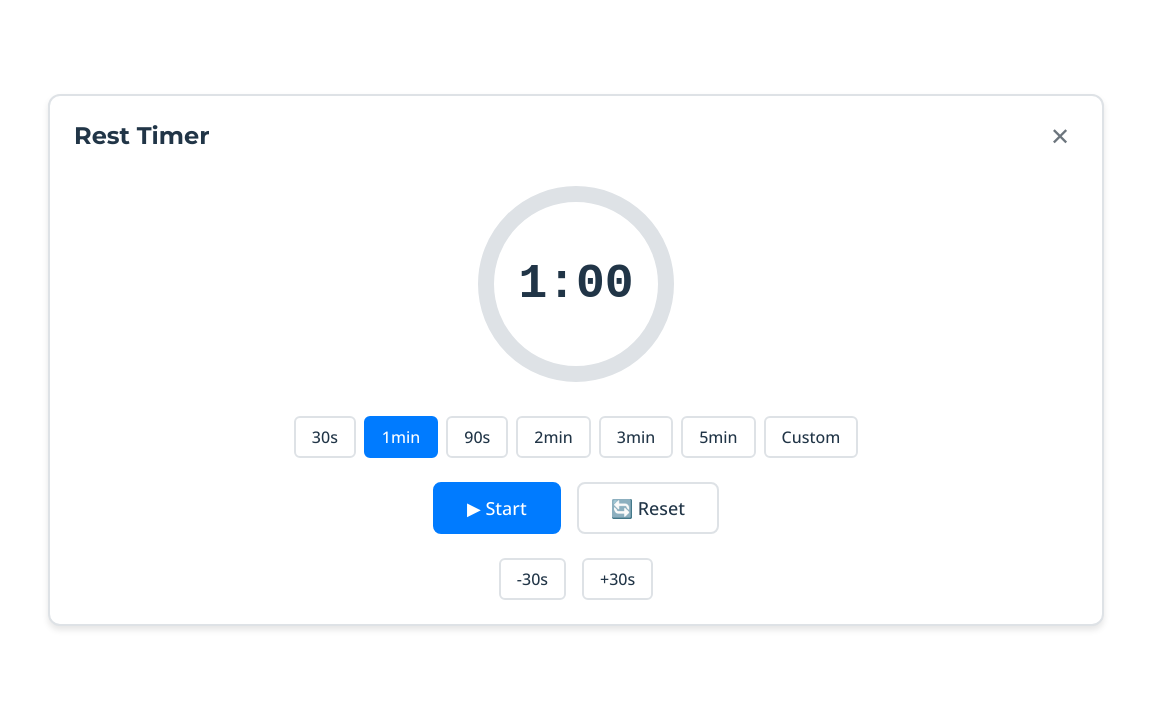
RestTimer › extends time by 30 seconds
Expected: the text "1:00" is shown, [518, 246, 634, 322]
Click the button named "Increase time by 30 seconds".
click(618, 579)  # box [582, 558, 653, 600]
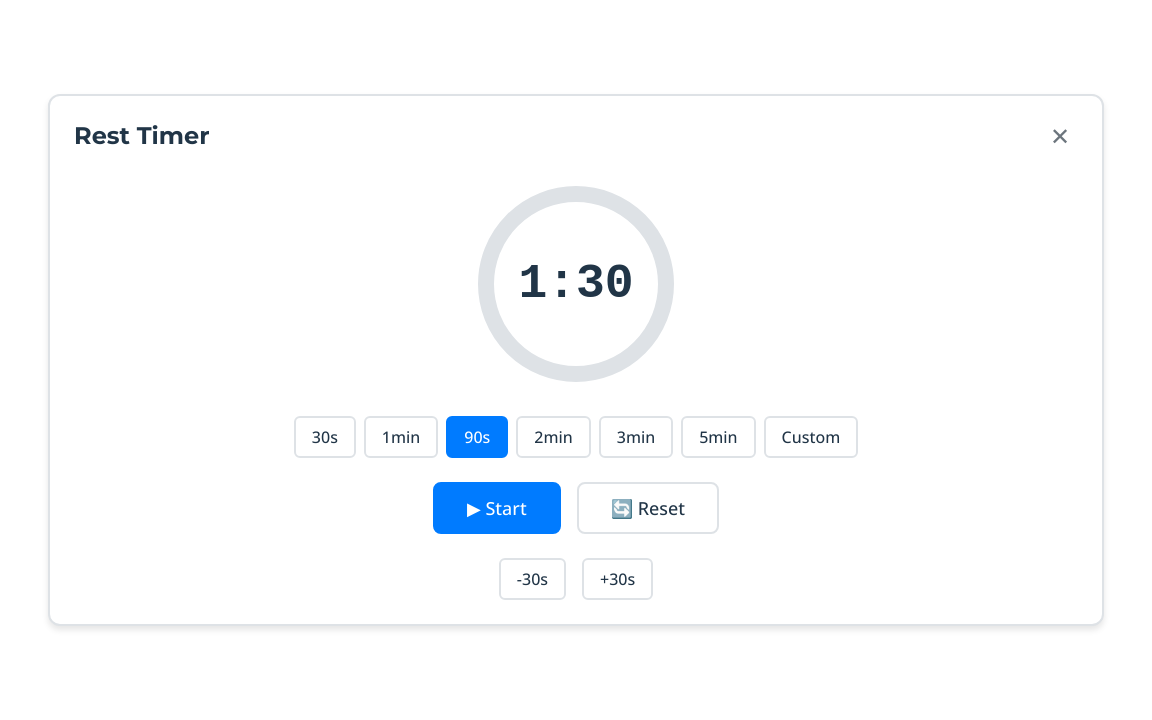
Now the text "1:30" is shown, box [518, 246, 634, 322]
